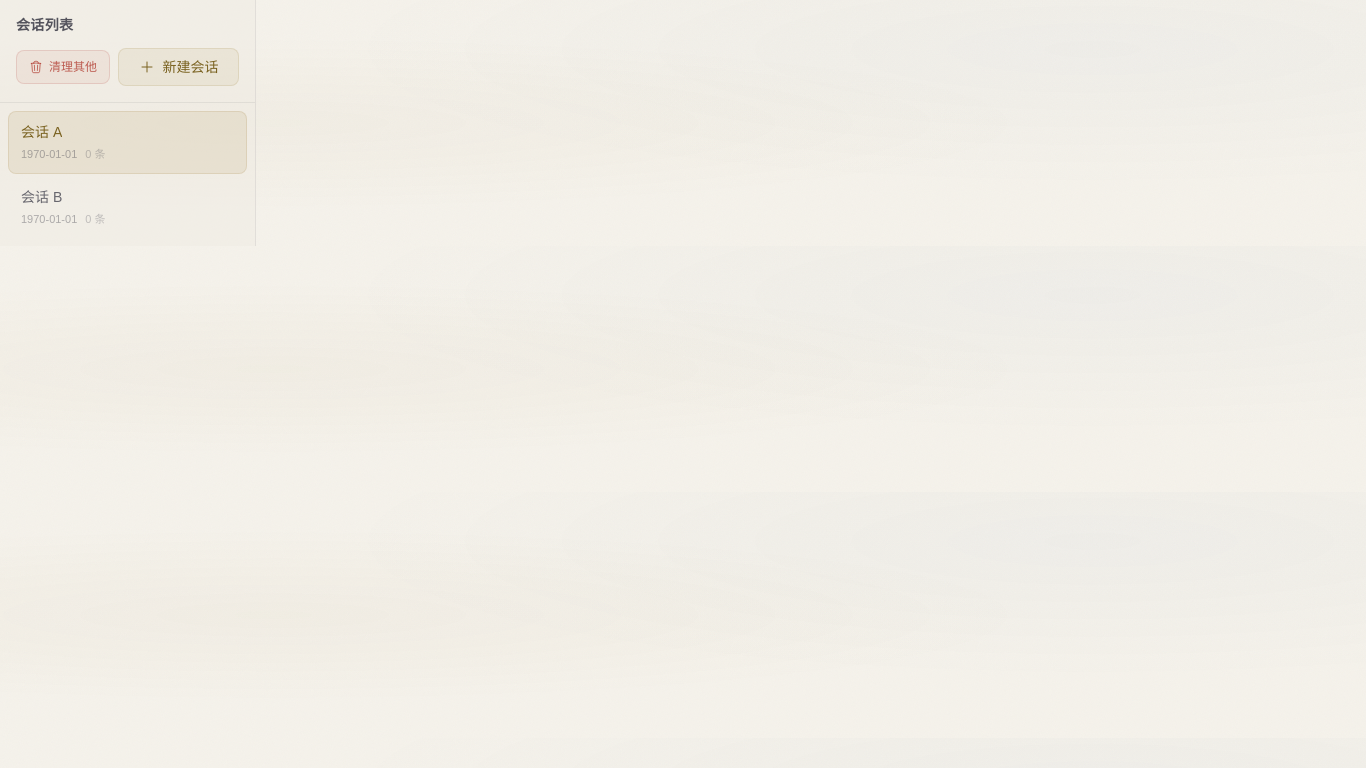
Scenario: ThreadList 清理失败 - modal 错误显示 + 不弹 toast › C1: deleteAllThreads 抛错时,modal 显示错误条,且 toast 不出现
Click the button with aria-label "清理其他会话": (63, 67) [16,50,110,84]
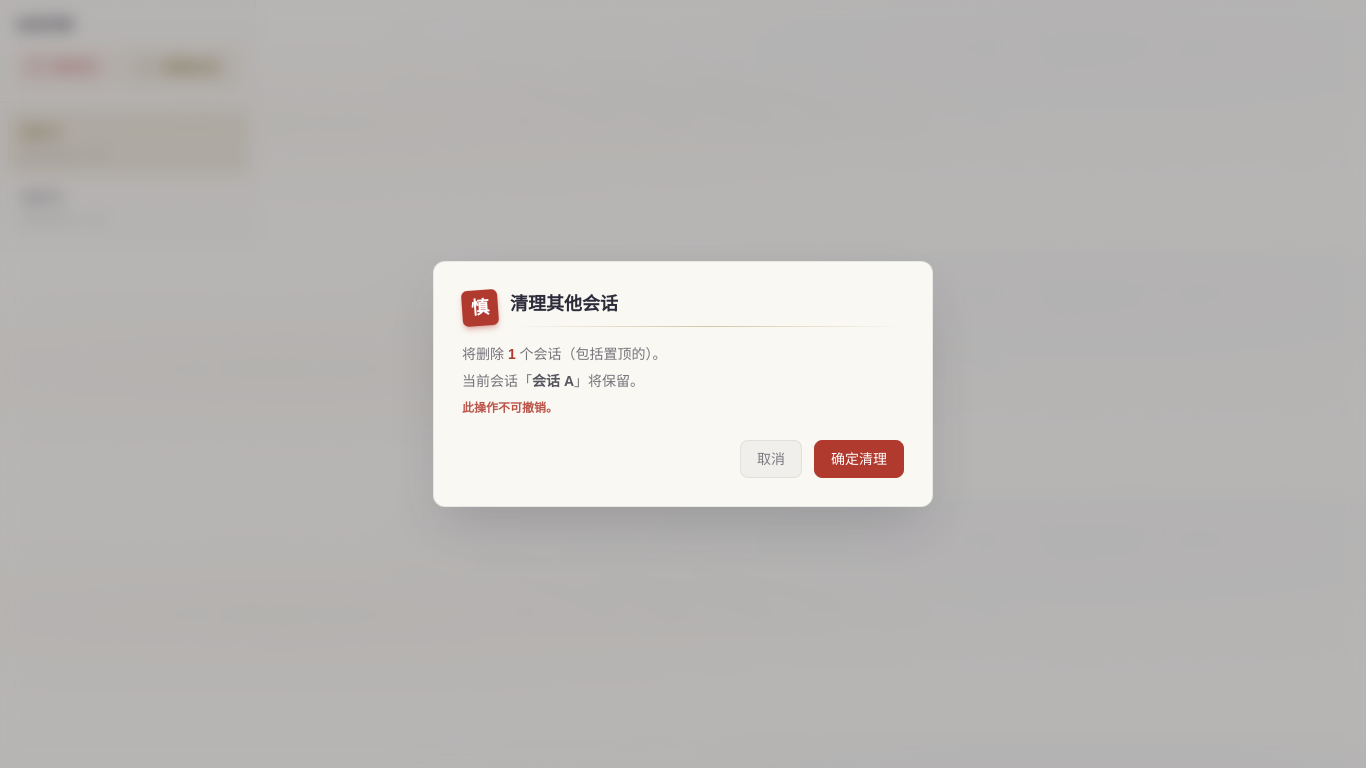
Click the button "确定清理": (859, 459) [814,440,904,478]
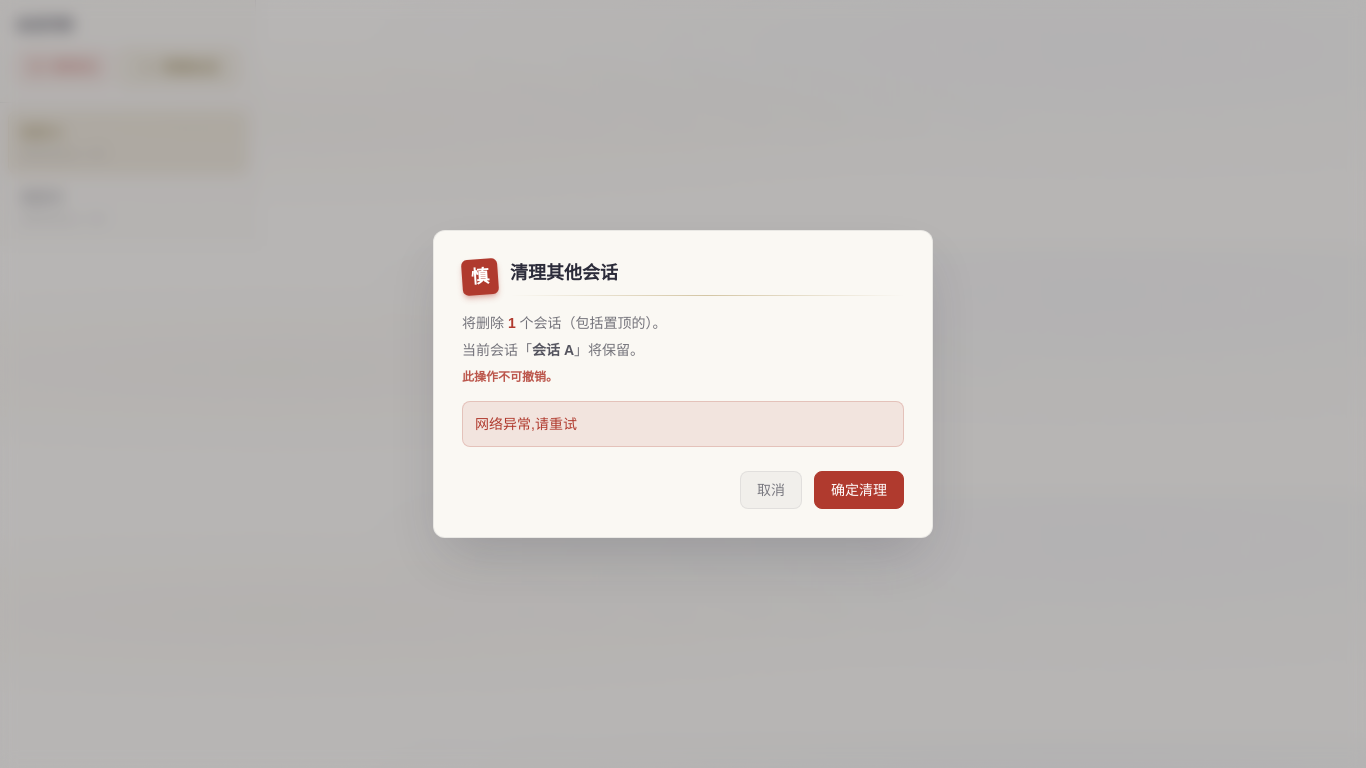
Check: the message reads "网络异常,请重试", box [475,416,577,432]
